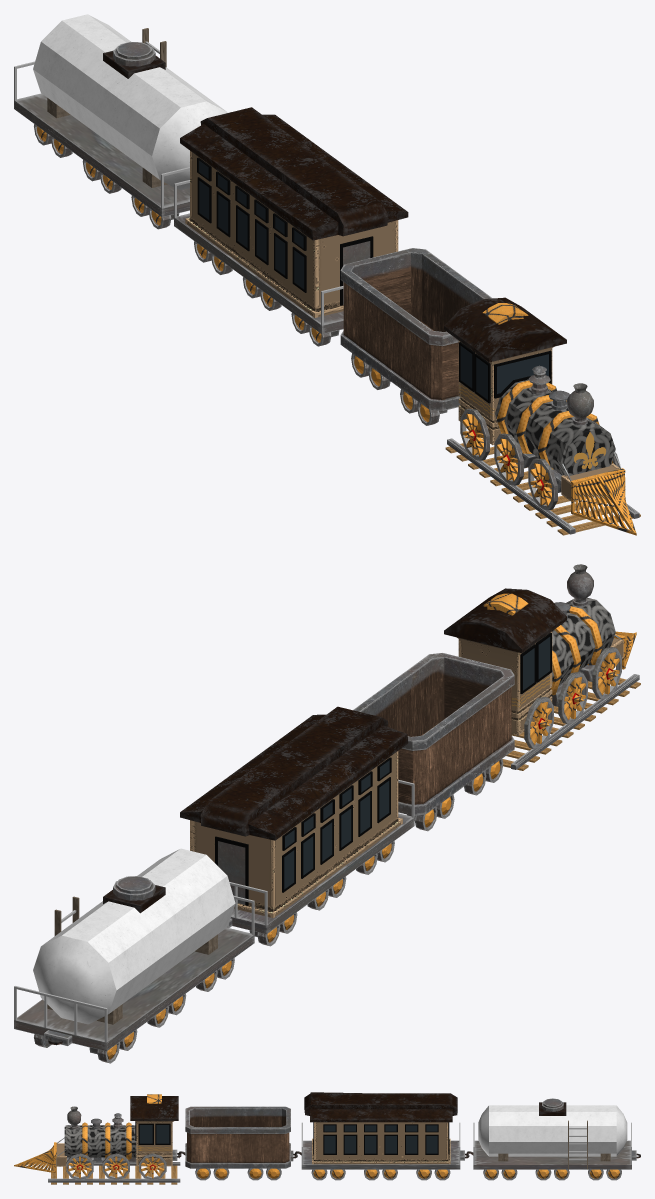
File: Train.fbx
3 renders of one model, top to bottom at view 1: azimuth 30°, elevation 25°; view 2: azimuth 150°, elevation 25°; view 3: azimuth 270°, elevation 25°, orthographic. The views are drawn at different scales.
Visible parts, largest first — view 1: Kasa (×3), Cati (×2), Tank, Kabin (×2), Motor, pCube34_low, Cam, Ust_Kapak, Baca1; view 2: Kasa (×3), Cati (×2), Tank, Kabin (×2), Motor, pCube34_low, polySurface5, Ust_Kapak, Baca1; view 3: Kasa (×3), Tank, Cati (×2), Kabin (×2), pCylinder9 (×14), Motor, polySurface5 (×6), pCylinder2 (×3), pCube34_low, Cam (×2), pCylinder10 (×2), Ust_Kapak (+6 smaller).
Part boxes in pixels (x1,y1,x2,y2): Kasa (×3): [14, 93, 492, 410]; Cati (×2): [180, 107, 566, 362]; Tank: [33, 14, 227, 189]; Kabin (×2): [185, 151, 553, 445]; Motor: [495, 379, 615, 475]; pCube34_low: [447, 438, 575, 534]; Cam: [497, 354, 548, 393]; Ust_Kapak: [113, 41, 155, 66]; Baca1: [567, 383, 593, 425]; Kasa (×3): [14, 653, 514, 1051]; Cati (×2): [180, 588, 566, 840]; Tank: [33, 848, 235, 1024]; Kabin (×2): [190, 631, 552, 918]; Motor: [552, 597, 615, 684]; pCube34_low: [511, 674, 639, 769]; polySurface5: [218, 841, 245, 904]; Ust_Kapak: [113, 876, 155, 900]; Baca1: [567, 564, 593, 606]; Kasa (×3): [185, 1106, 631, 1169]; Tank: [478, 1105, 627, 1156]; Cati (×2): [130, 1092, 457, 1122]; Kabin (×2): [135, 1121, 450, 1166]; pCylinder9 (×14): [195, 1168, 621, 1180]; Motor: [64, 1125, 136, 1157]; polySurface5 (×6): [324, 1136, 437, 1153]; pCylinder2 (×3): [66, 1153, 166, 1179]; pCube34_low: [48, 1178, 180, 1182]; Cam (×2): [139, 1125, 169, 1143]; pCylinder10 (×2): [247, 1168, 281, 1180]; Ust_Kapak: [542, 1098, 563, 1111].
Size of the model in its own units: 9.8 by 14.47 by 104.
